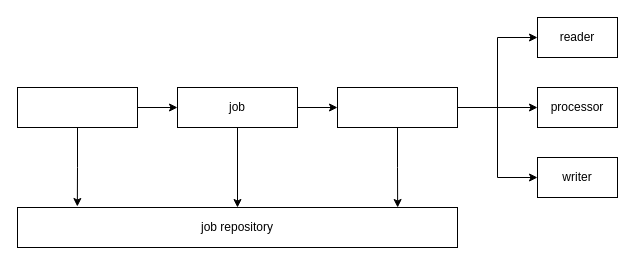
Image size: 635x265. Some labels were removed from this diagram. Each missing label, with the centre of its shape:
"job launcher" goes at pixel 77 107.
"step" goes at pixel 397 107.
